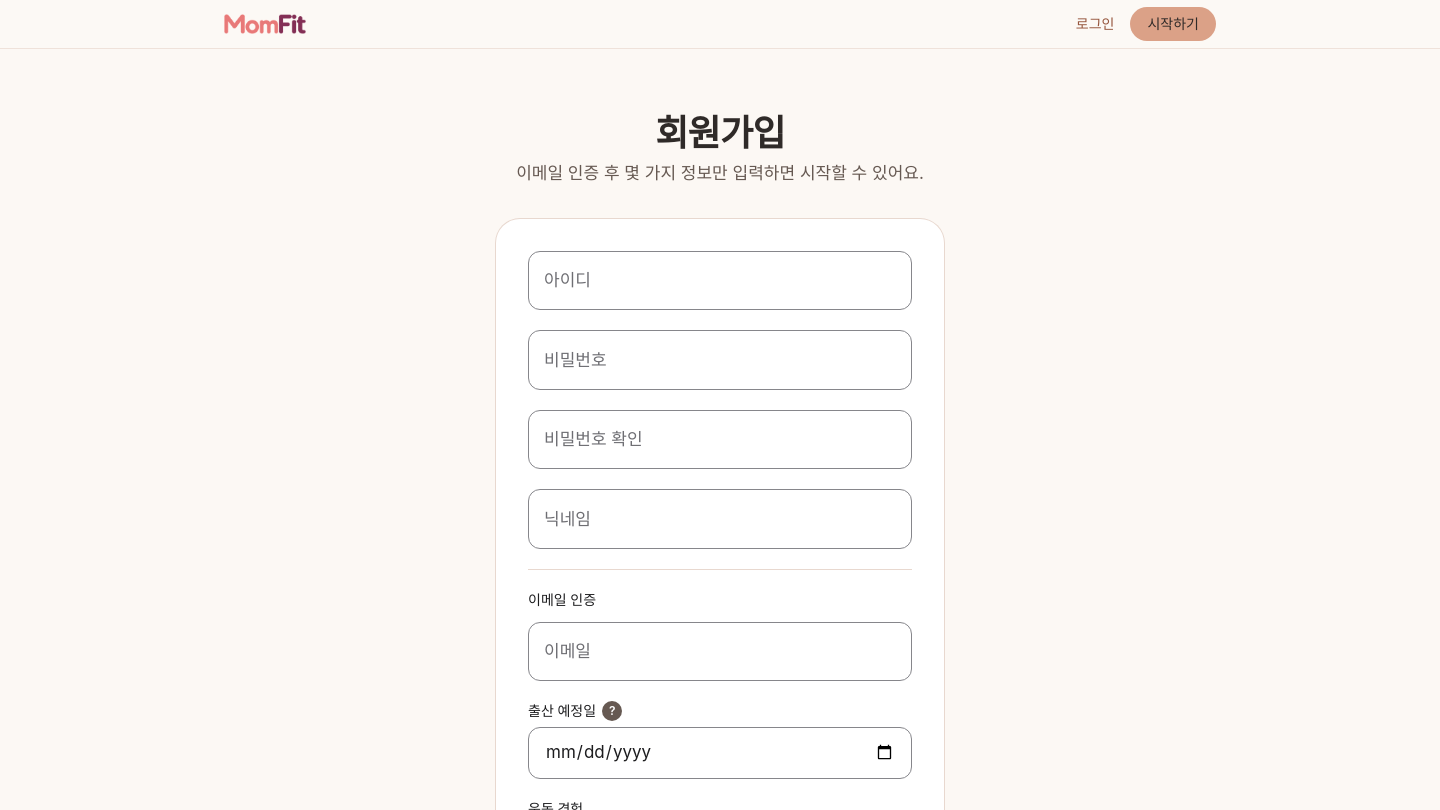
Test: 이메일 인증 입력 › 이메일 변경을 누르면 인증을 처음부터 다시 한다
This screenshot has width=1440, height=810.
Type "mom@example.com" into the field labelled "이메일" at (720, 651), box [528,622,912,681]
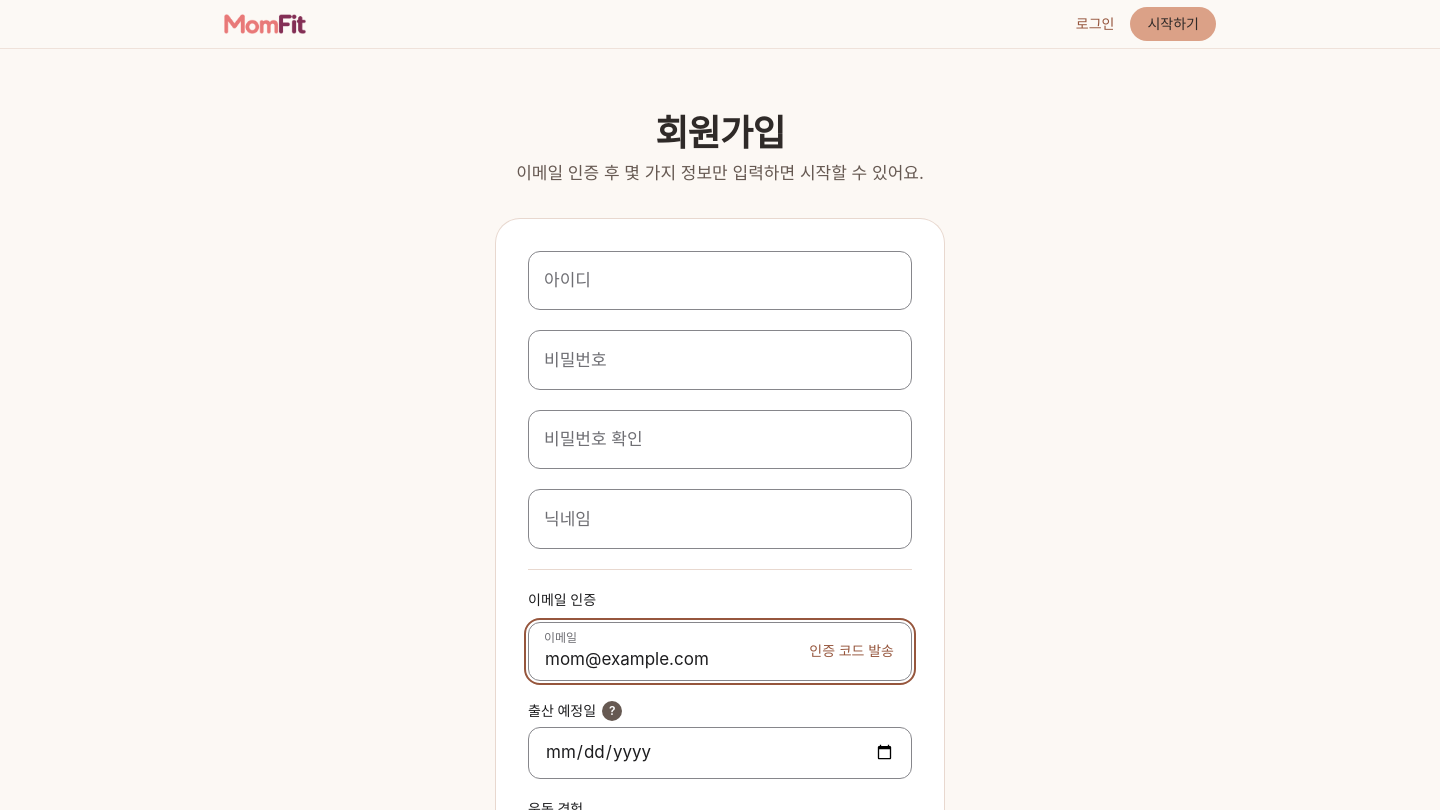
Click the button "인증 코드 발송" at (852, 651), box [803,637,900,665]
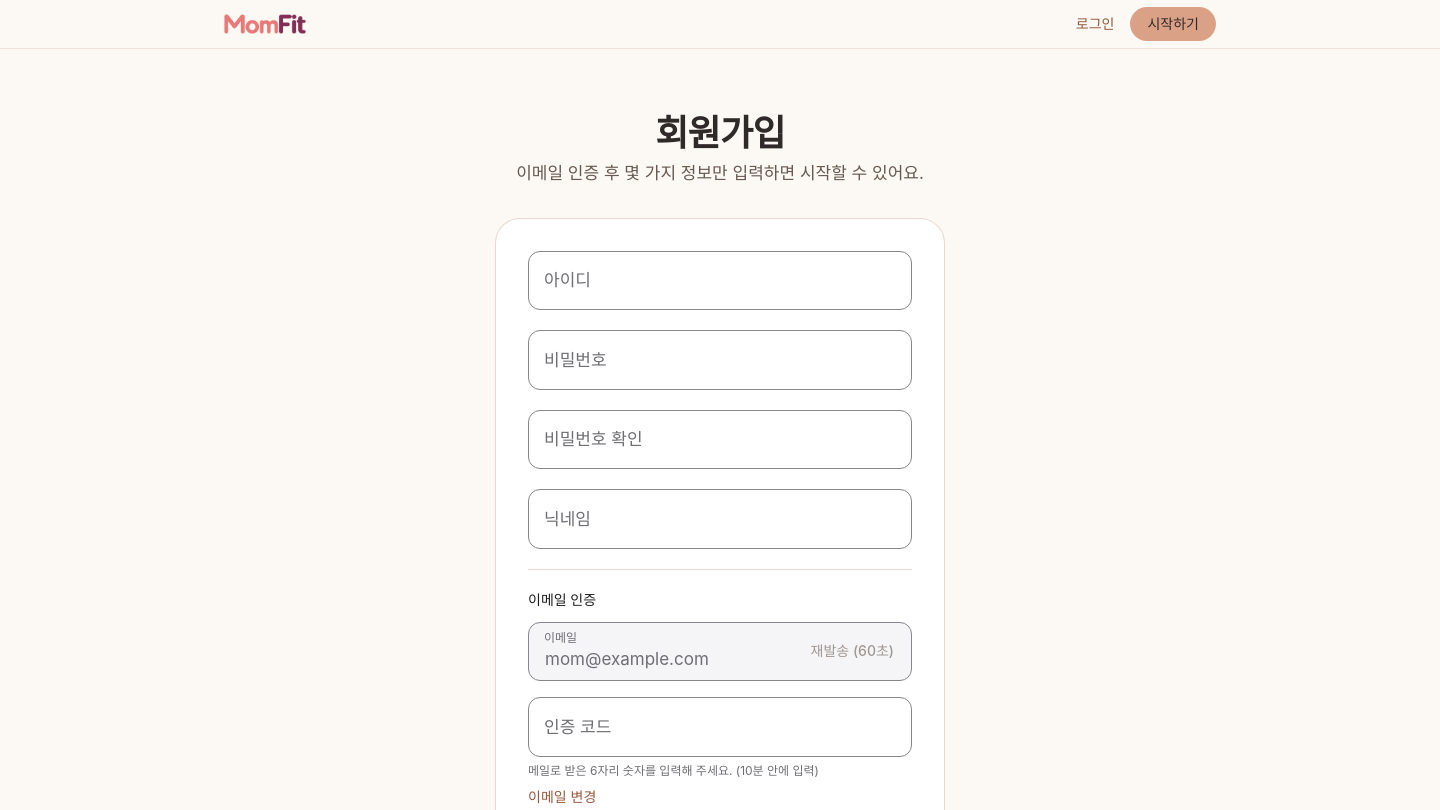
Click the button "이메일 변경" at (562, 796), box [528,786,596,806]
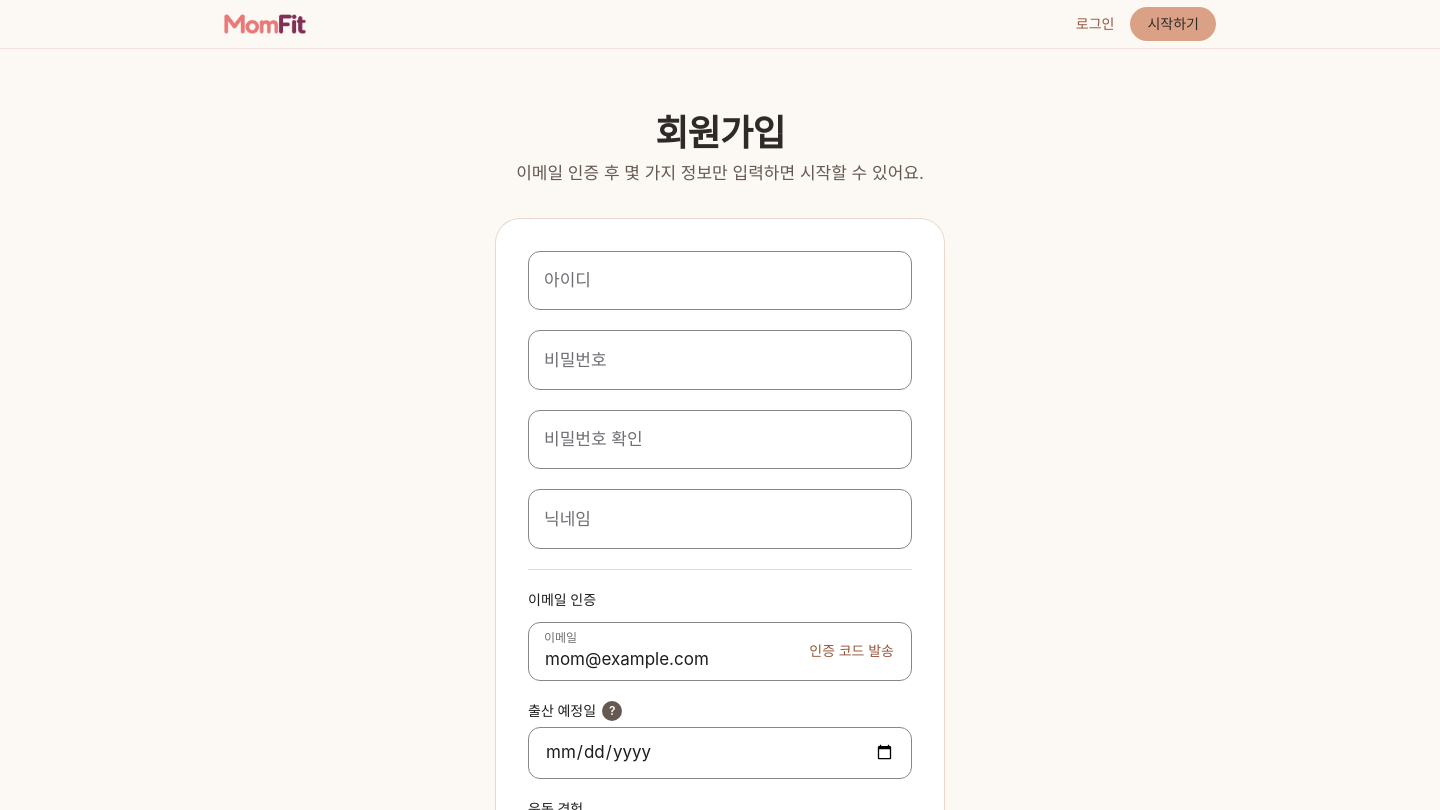
Check: the field labelled "이메일" is enabled, box [528,622,912,681]
Check: the button "인증 코드 발송" is shown, box [803,637,900,665]
